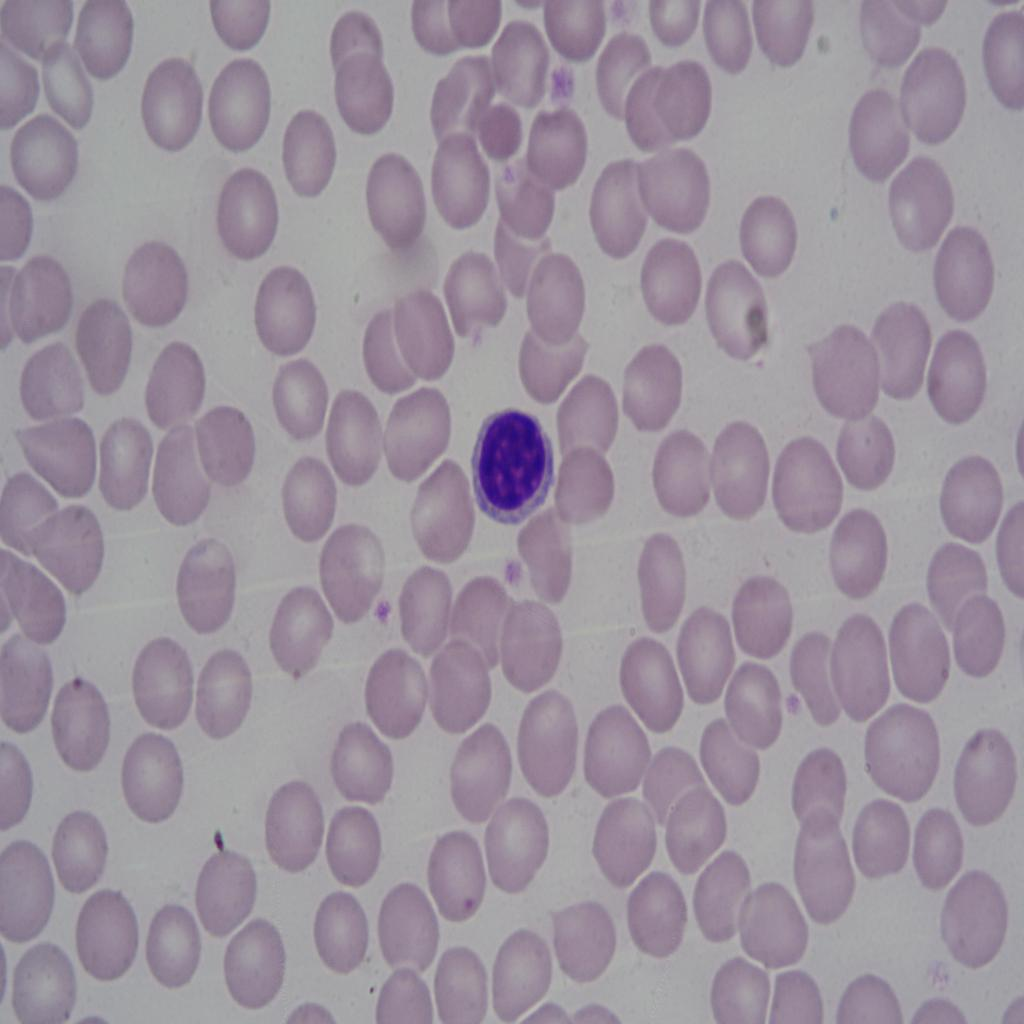Myeoblast: (462, 400, 568, 536)
Platelet: (548, 55, 581, 105), (784, 682, 811, 728), (65, 657, 90, 701), (376, 598, 400, 640), (498, 556, 523, 590), (462, 883, 482, 921), (821, 200, 845, 230)
